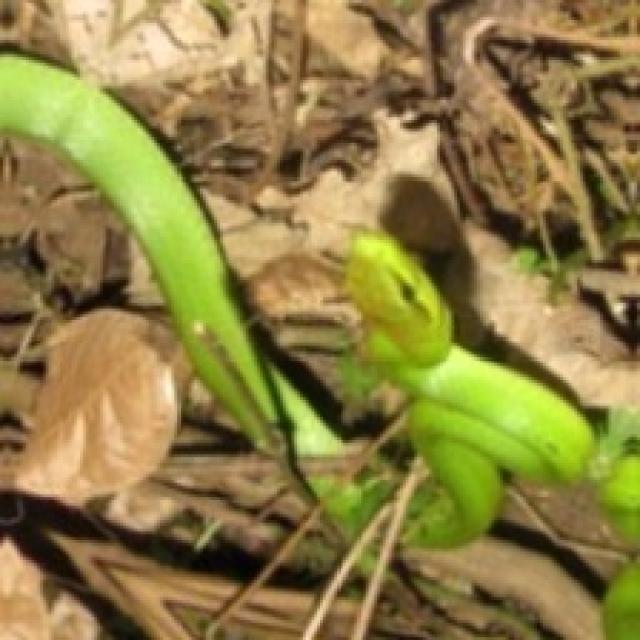red-tailed green ratsnake: (0, 55, 341, 493), (346, 231, 591, 546)
